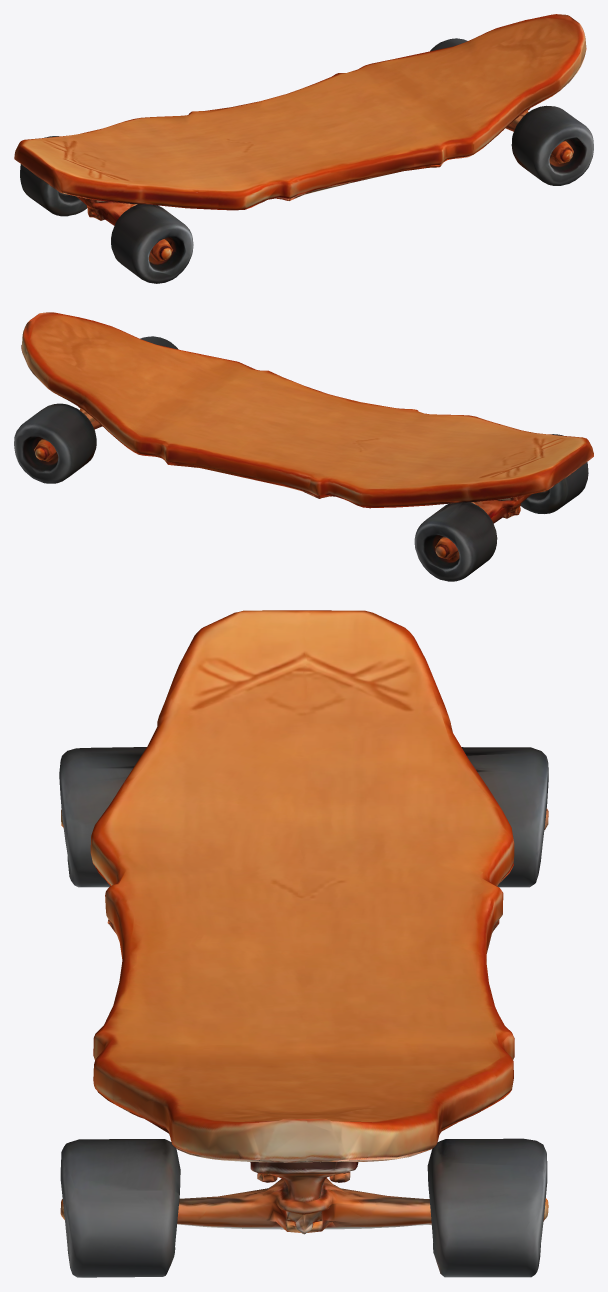
The model's file is CCG_Deck_IvoryGridSupremeRemix_web.glb.
3 views of the same model, one above another, from view 1: azimuth 30°, elevation 25°; view 2: azimuth 150°, elevation 25°; view 3: azimuth 270°, elevation 25° (orthographic). The views are drawn at different scales.
Visible parts, largest first — view 1: SM_Deck_IvoryGridSupremeRemix; view 2: SM_Deck_IvoryGridSupremeRemix; view 3: SM_Deck_IvoryGridSupremeRemix.
Part boxes in pixels (<box>): SM_Deck_IvoryGridSupremeRemix: <box>14,14,593,283</box>; SM_Deck_IvoryGridSupremeRemix: <box>14,312,593,581</box>; SM_Deck_IvoryGridSupremeRemix: <box>59,610,548,1277</box>.
Bounding box in the file's own units: 0.8199 × 0.1577 × 0.322.
1 material, 1 textured.
